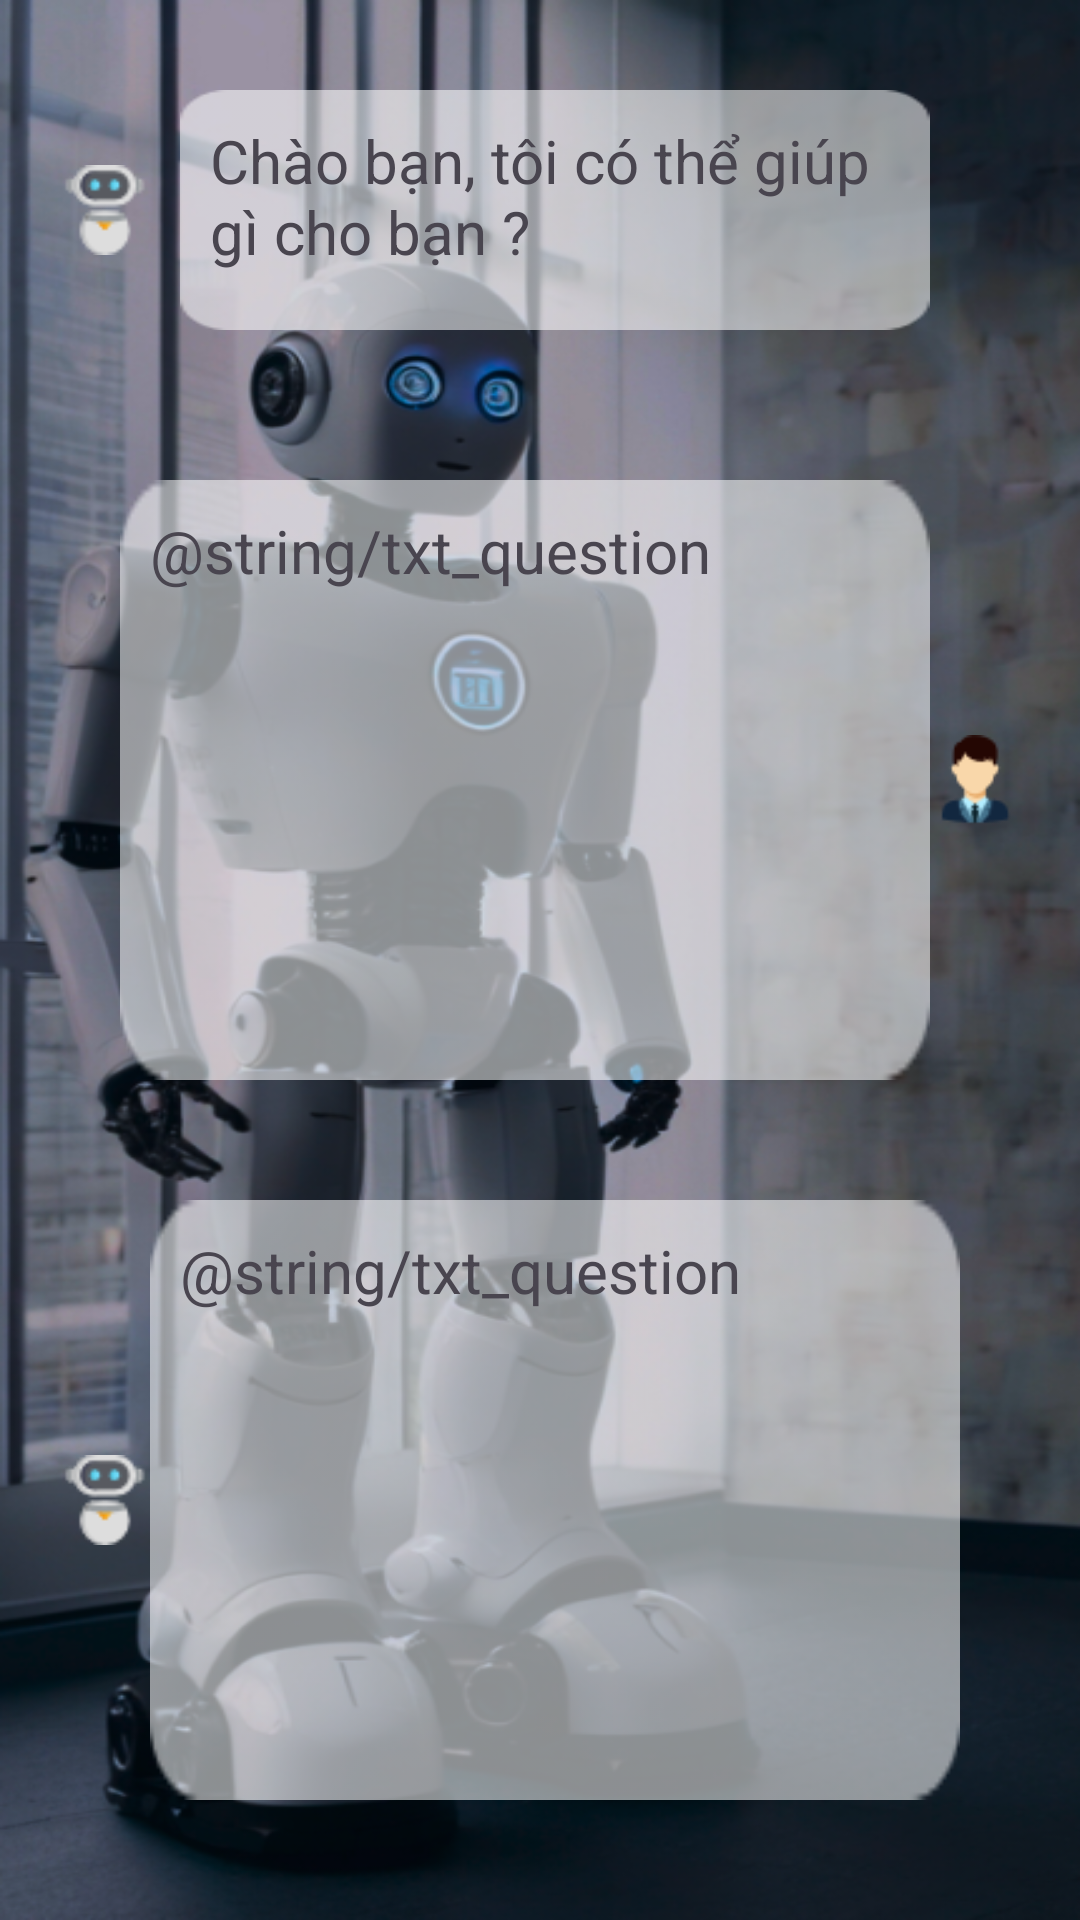

Screen size 1080x1920. Icon name, then its box in pixels as bbox=[x1, y1, x2, y2]:
user: bbox=[942, 735, 1009, 823]
